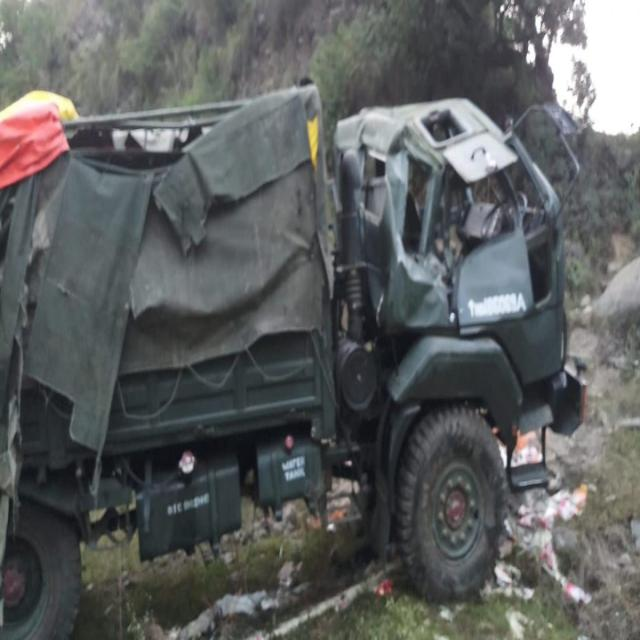accident: (0, 87, 585, 637)
